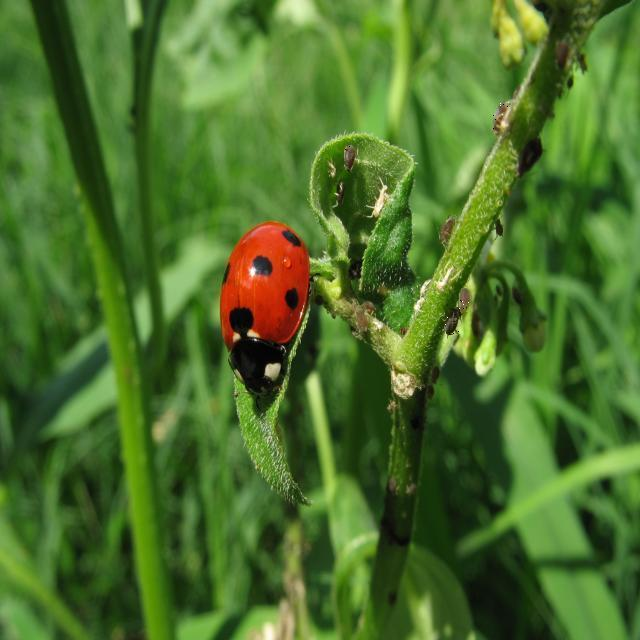aphid: (391, 371, 418, 398), (494, 101, 509, 134), (446, 307, 460, 334), (440, 217, 454, 244), (345, 146, 356, 171), (460, 288, 471, 312), (357, 310, 366, 333)
